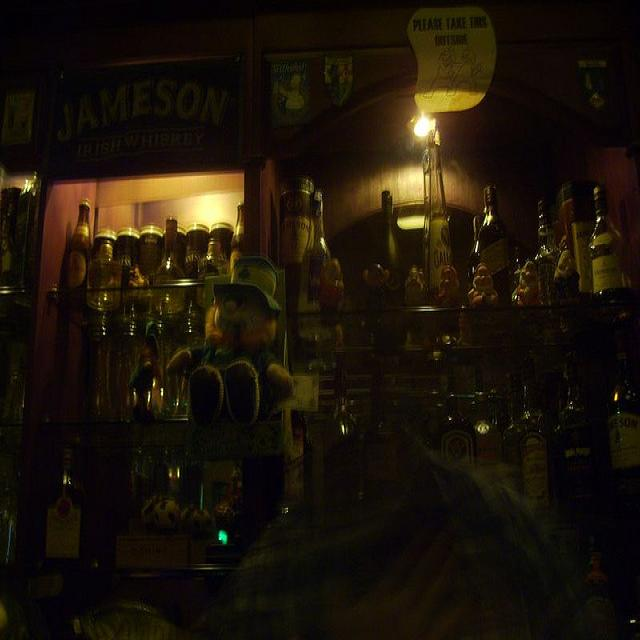Bottle: (504, 358, 557, 511), (550, 348, 599, 487), (44, 434, 93, 569), (602, 319, 640, 481), (585, 170, 630, 296), (472, 180, 515, 304), (307, 182, 341, 313), (378, 184, 405, 286), (156, 218, 184, 310), (66, 202, 92, 299)
